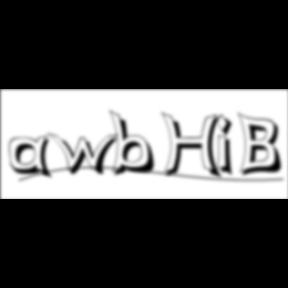B: (238, 111, 288, 179)
H: (161, 112, 227, 182)
a: (9, 135, 57, 182)
b: (110, 109, 162, 179)
i: (216, 112, 240, 180)
w: (47, 132, 125, 178)
